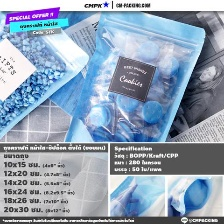snack: (60, 11, 209, 141), (0, 10, 92, 141)
